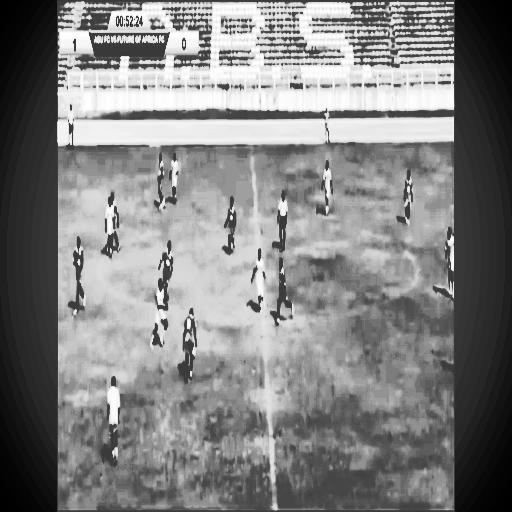ball: (190, 344, 198, 363)
referee: (279, 180, 288, 258), (64, 94, 76, 146)
team1: (102, 367, 123, 469), (150, 272, 168, 354), (440, 215, 454, 297), (253, 249, 265, 318), (102, 199, 114, 259), (321, 154, 332, 219), (172, 152, 178, 201)
team2: (273, 256, 300, 330), (73, 230, 88, 323), (182, 304, 196, 384), (162, 236, 174, 314), (401, 158, 414, 227), (224, 198, 238, 256), (157, 154, 165, 209)
